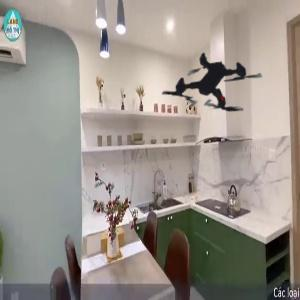drone: (142, 15, 284, 157)
